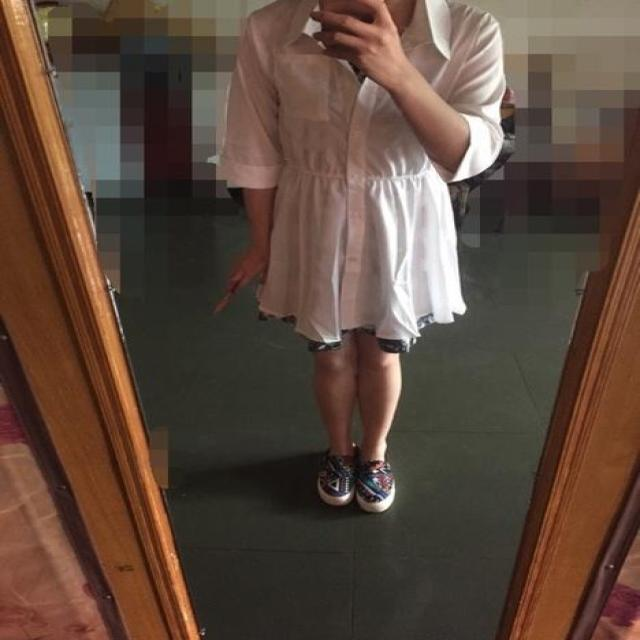long-sleeve-dress: (142, 0, 558, 377)
